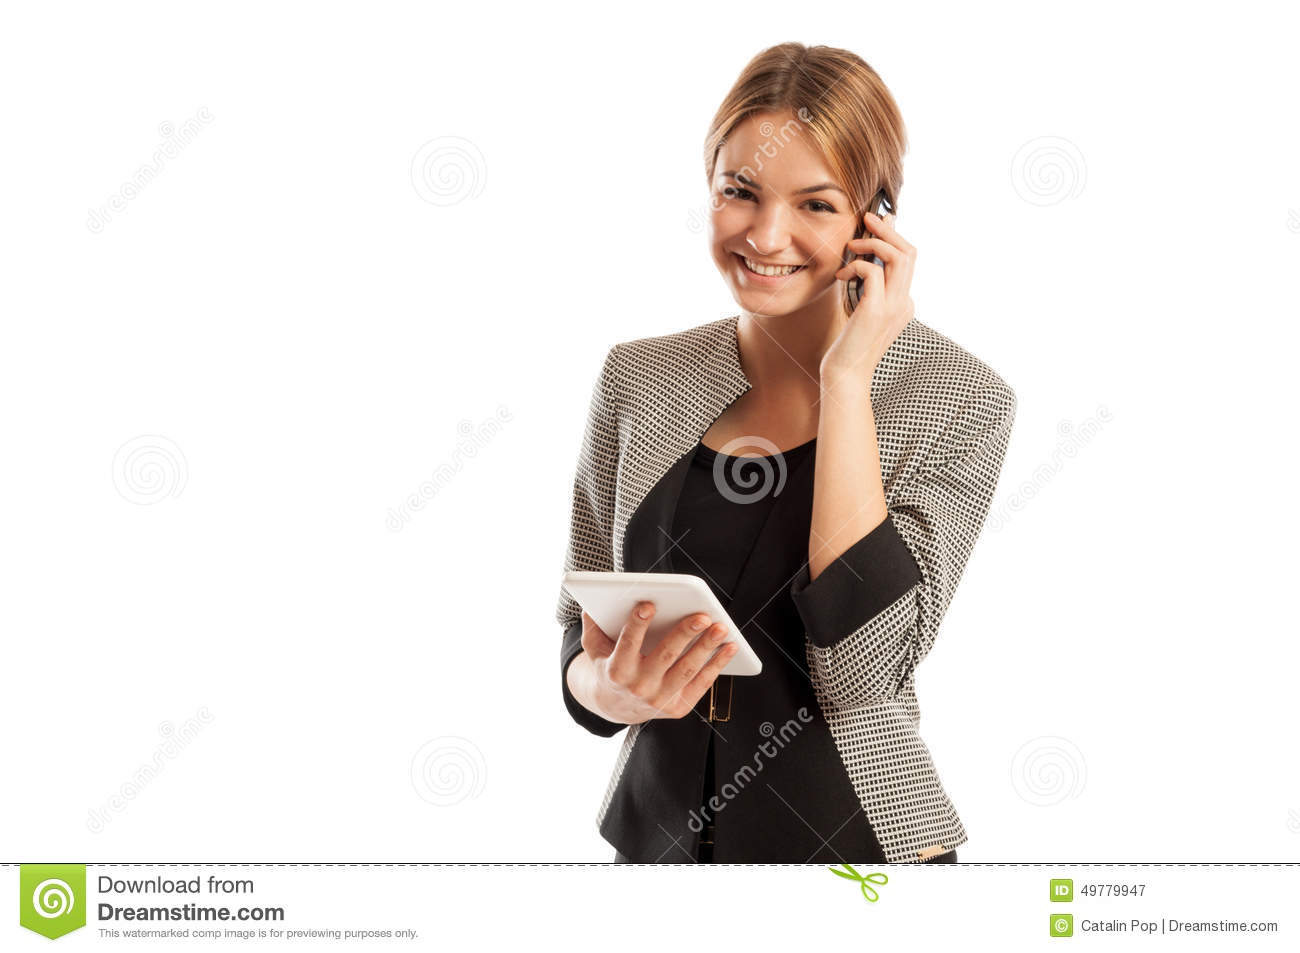phone: (843, 192, 899, 328)
talk: (709, 167, 914, 400)
